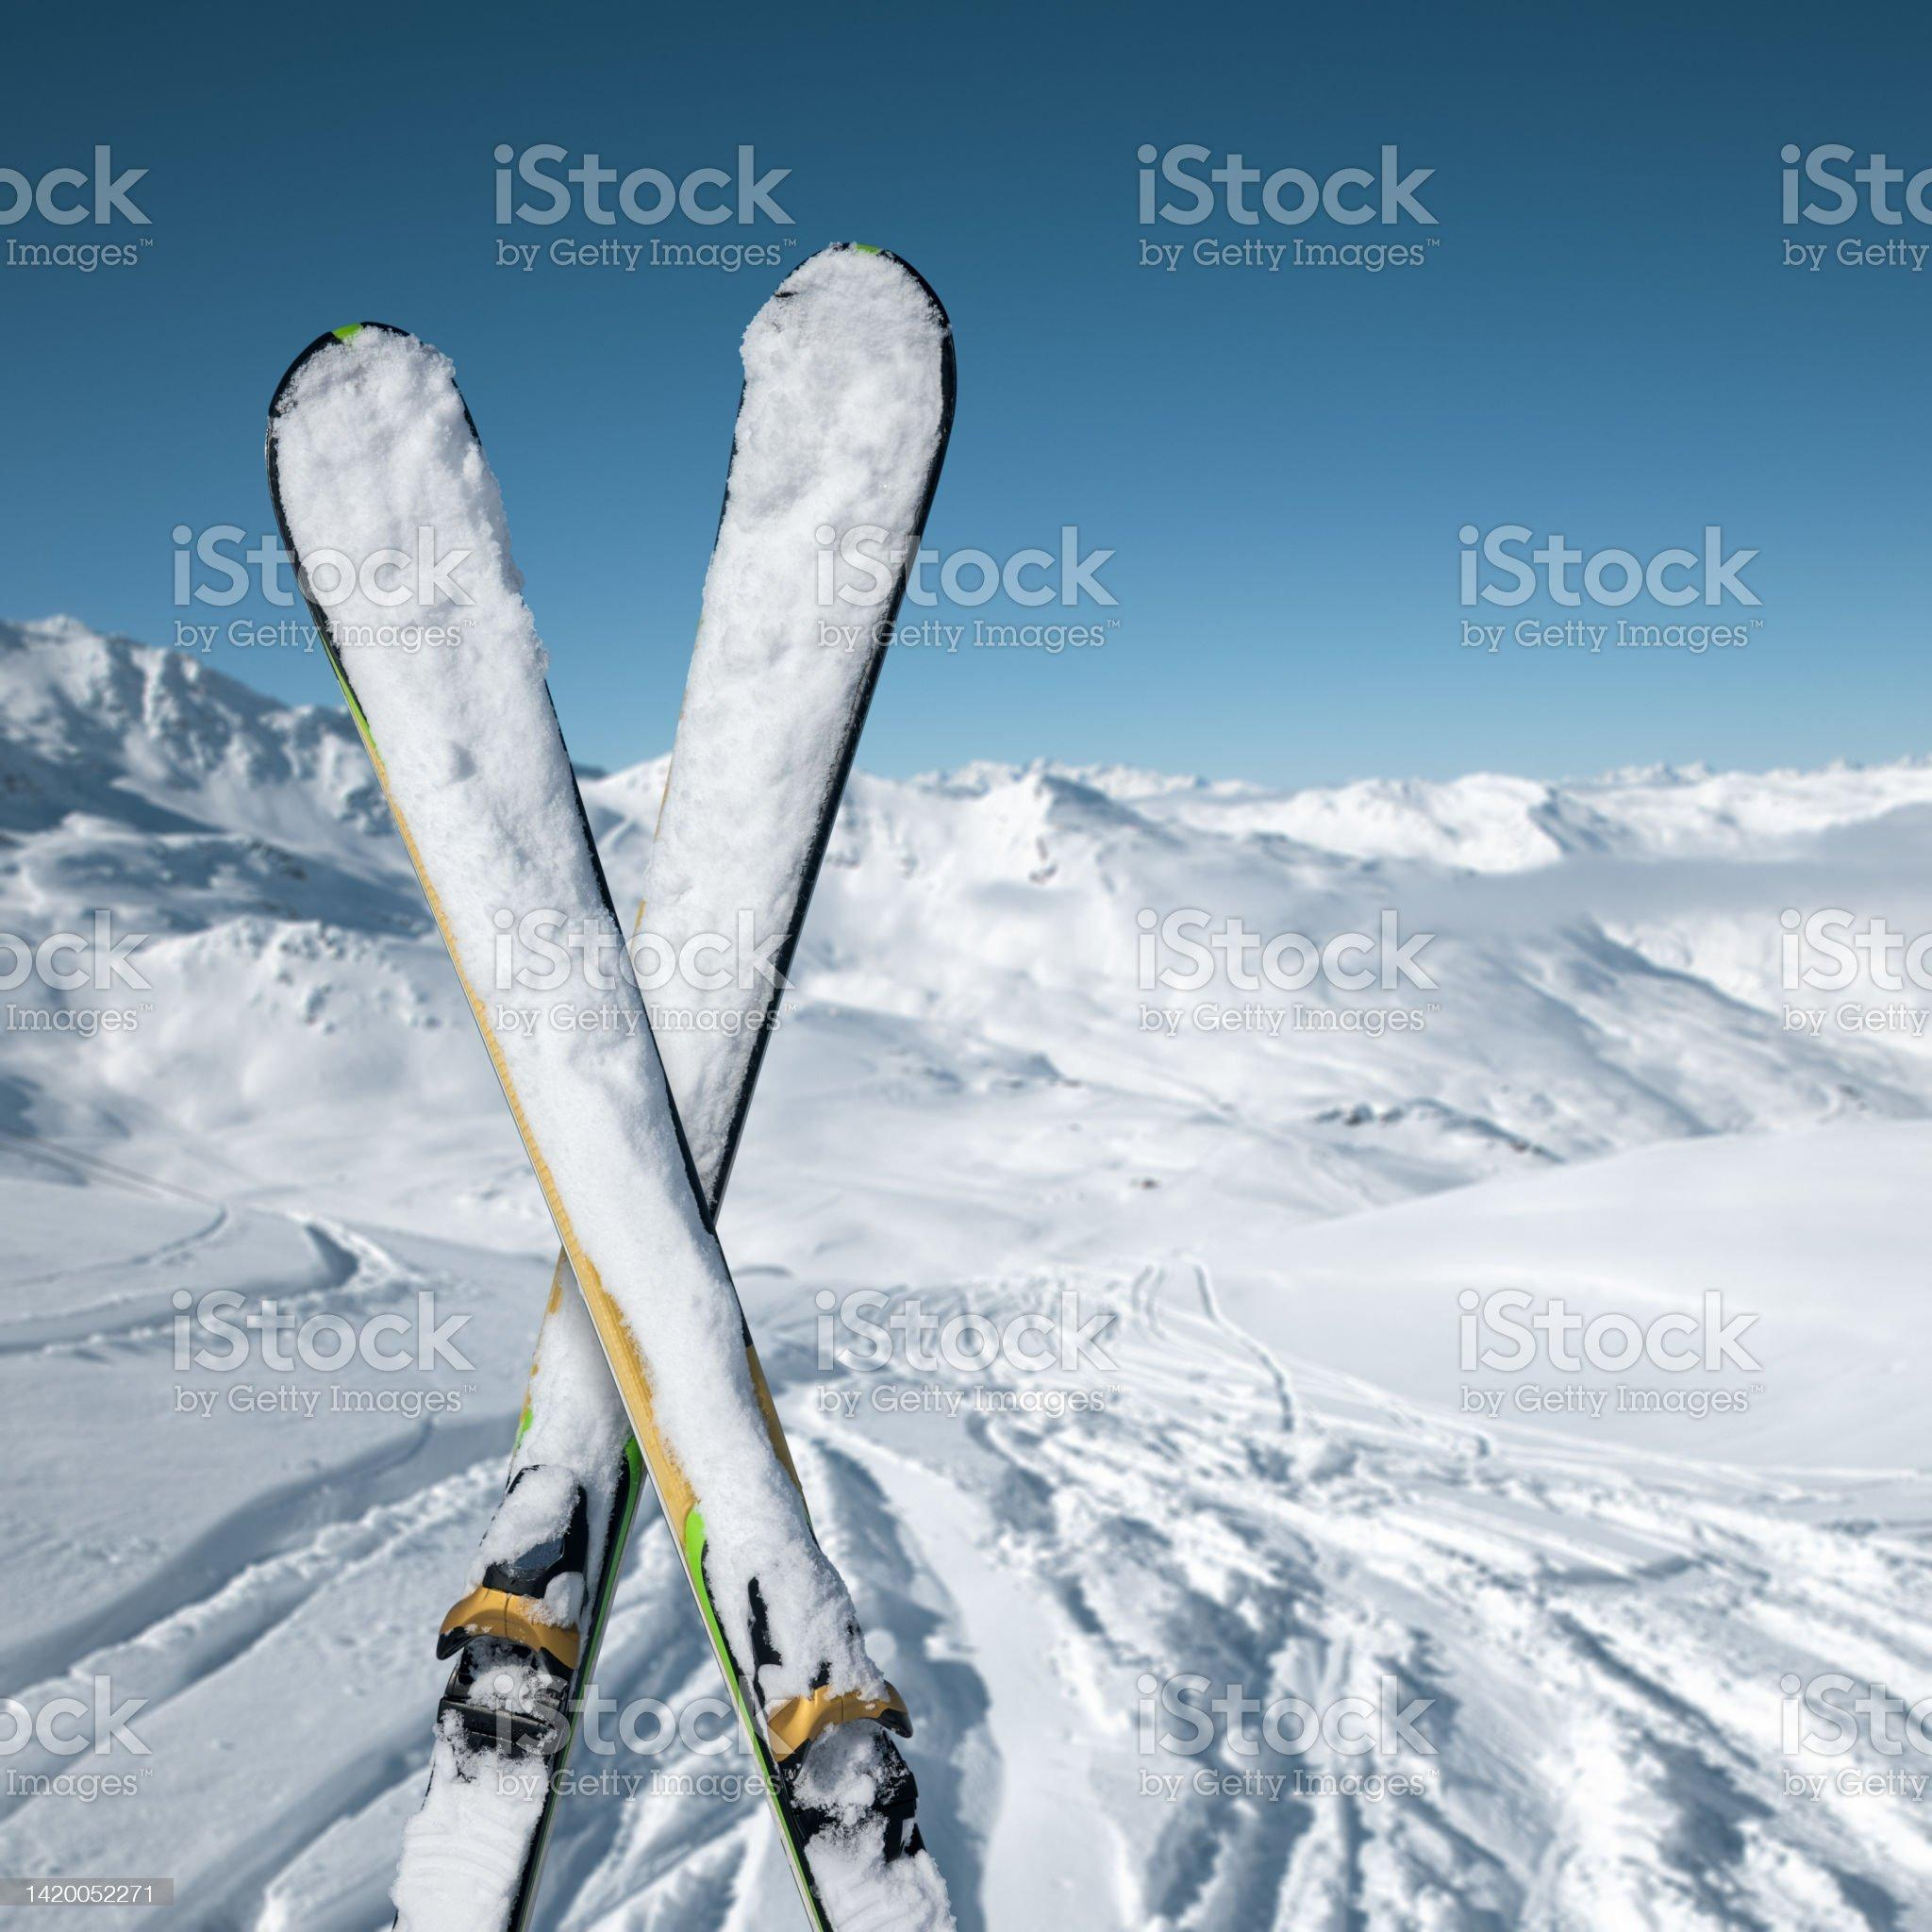Skis: (242, 219, 1187, 1932)
